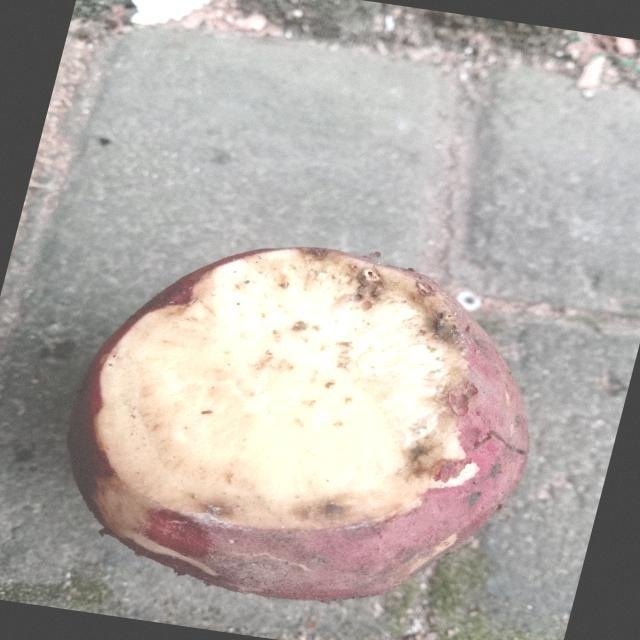Sick Sweet Potato_Tuber Rot: (97, 249, 467, 528)
